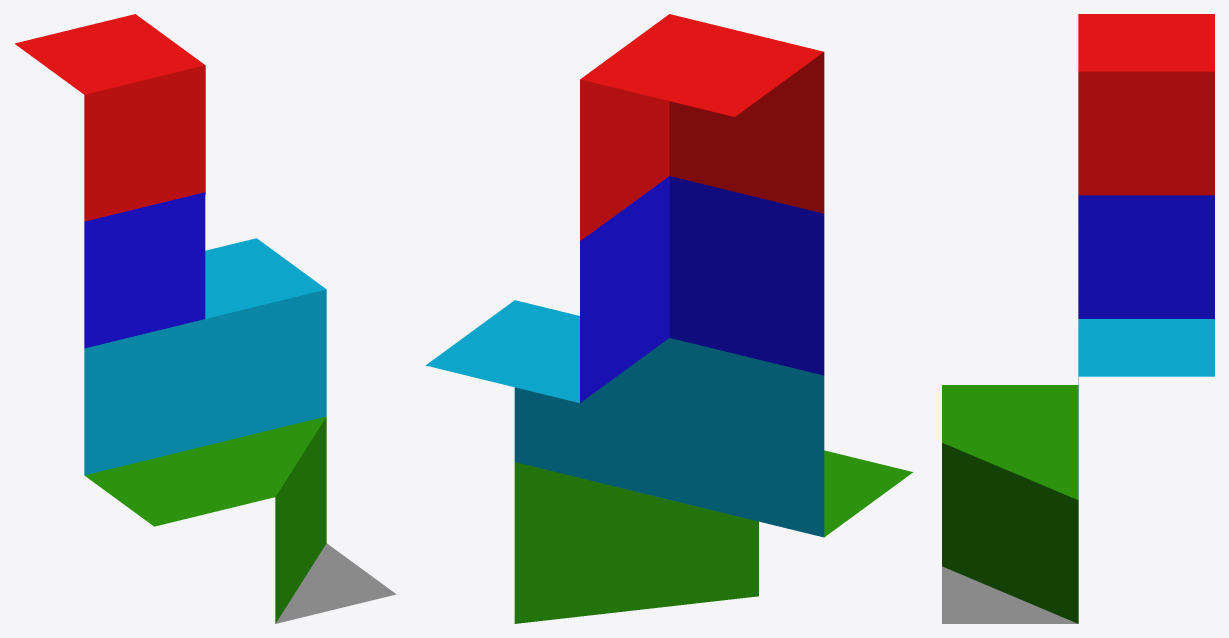
3 renders of one model, left to right at view 1: azimuth 30°, elevation 25°; view 2: azimuth 150°, elevation 25°; view 3: azimuth 270°, elevation 25°, orthographic. The views are drawn at different scales.
Parts seen in each view (by area): view 1: T_2237_0_0; view 2: T_2237_0_0; view 3: T_2237_0_0.
Boxes of the visible parts, x1=… form: T_2237_0_0: x1=14, y1=14, x2=396, y2=623; T_2237_0_0: x1=425, y1=14, x2=913, y2=623; T_2237_0_0: x1=942, y1=14, x2=1214, y2=623.
Size of the model in its own units: 99.79 by 200 by 99.81.
